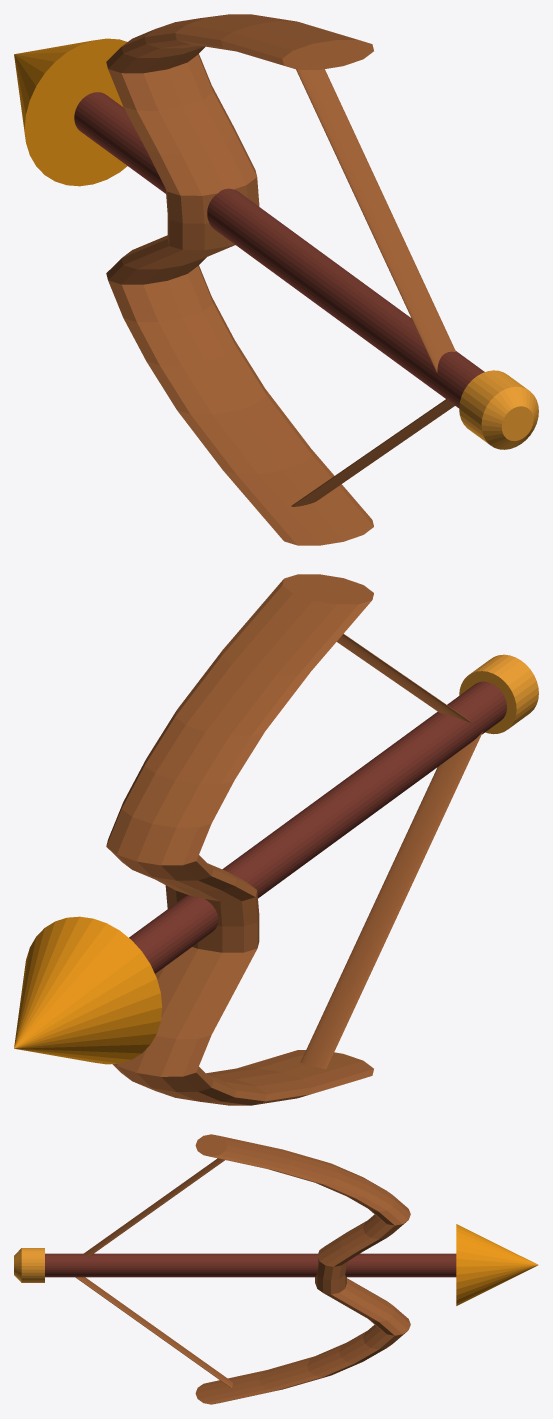
Rendered from bow.fbx.
The picture shows the model from 3 angles, top to bottom: view 1: azimuth 30°, elevation 25°; view 2: azimuth 150°, elevation 25°; view 3: azimuth 270°, elevation 25°; orthographic projection. The views are drawn at different scales.
Parts seen in each view (by area): view 1: Cylinder, Cylinder.001, Cone; view 2: Cylinder, Cylinder.001, Cone; view 3: Cylinder, Cylinder.001, Cone.
Boxes of the visible parts, box(x1,y1,x2,y2) form: Cylinder: box(106, 14, 455, 545); Cylinder.001: box(74, 92, 538, 449); Cone: box(14, 38, 127, 186); Cylinder: box(106, 574, 482, 1105); Cylinder.001: box(129, 654, 538, 973); Cone: box(14, 916, 162, 1064); Cylinder: box(75, 1134, 410, 1404); Cylinder.001: box(14, 1248, 456, 1282); Cone: box(456, 1224, 538, 1305).
Bounding box in the file's own units: 15.57 × 51.43 × 98.71.
